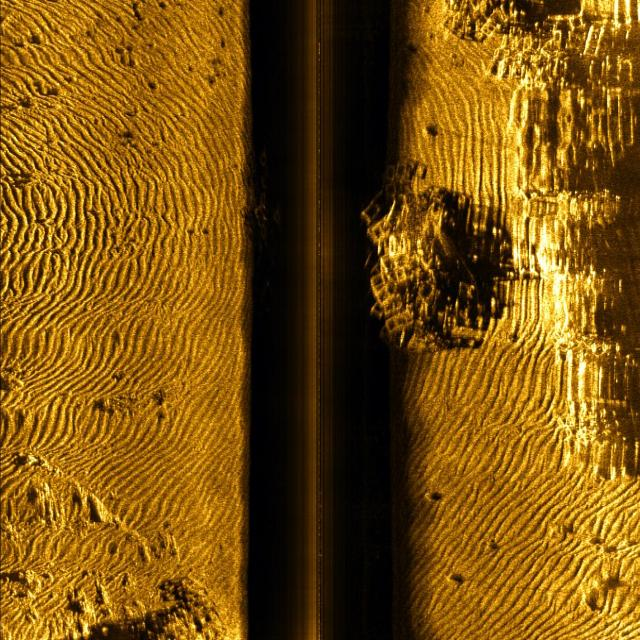artificial reef: (357, 142, 473, 355), (448, 0, 585, 82), (243, 128, 289, 268)
